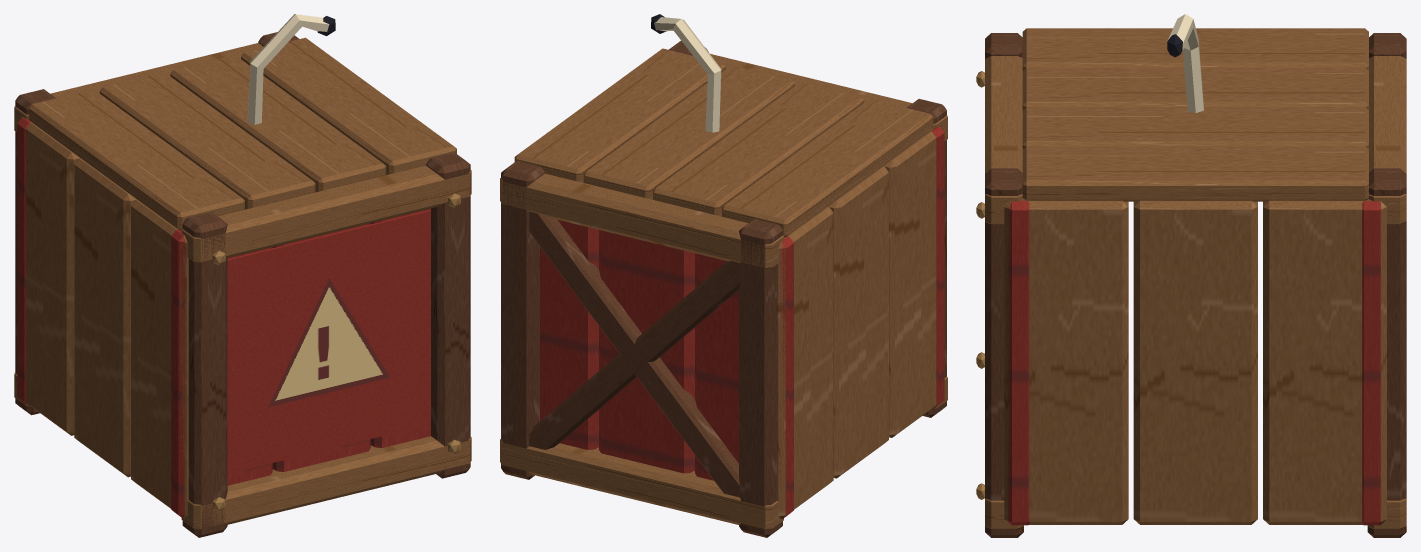
File: tnt.glb
3 views of the same model, side by side, from view 1: azimuth 30°, elevation 25°; view 2: azimuth 150°, elevation 25°; view 3: azimuth 270°, elevation 25° (orthographic). The views are drawn at different scales.
Visible parts, largest first — view 1: Plank; view 2: Plank; view 3: Plank.
Boxes of the visible parts, x1,y1,x2,y2 form: Plank: [14, 14, 471, 537]; Plank: [500, 14, 947, 537]; Plank: [976, 14, 1406, 537].
Size of the model in its own units: 0.74 by 1.02 by 0.8317.
7 materials, 4 textured.
